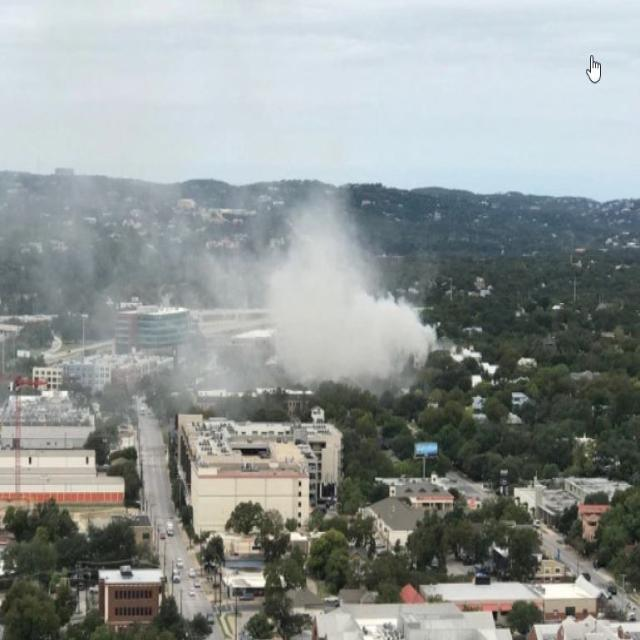Smoke: (258, 211, 437, 393)
